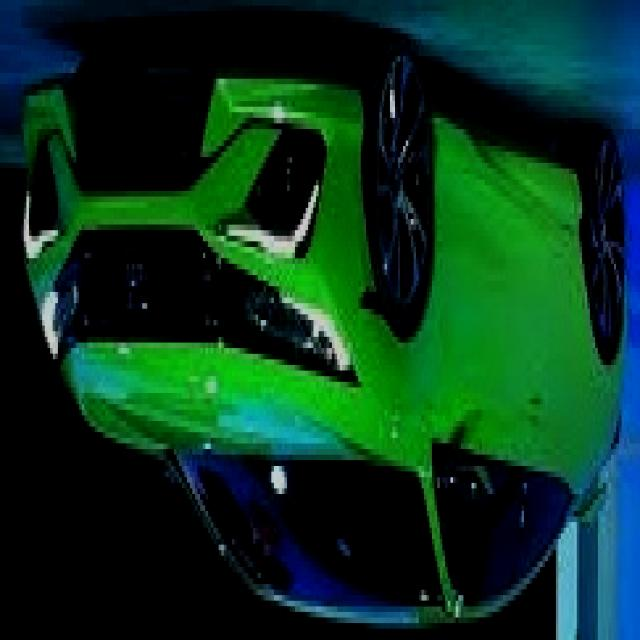green: (21, 35, 627, 634)
